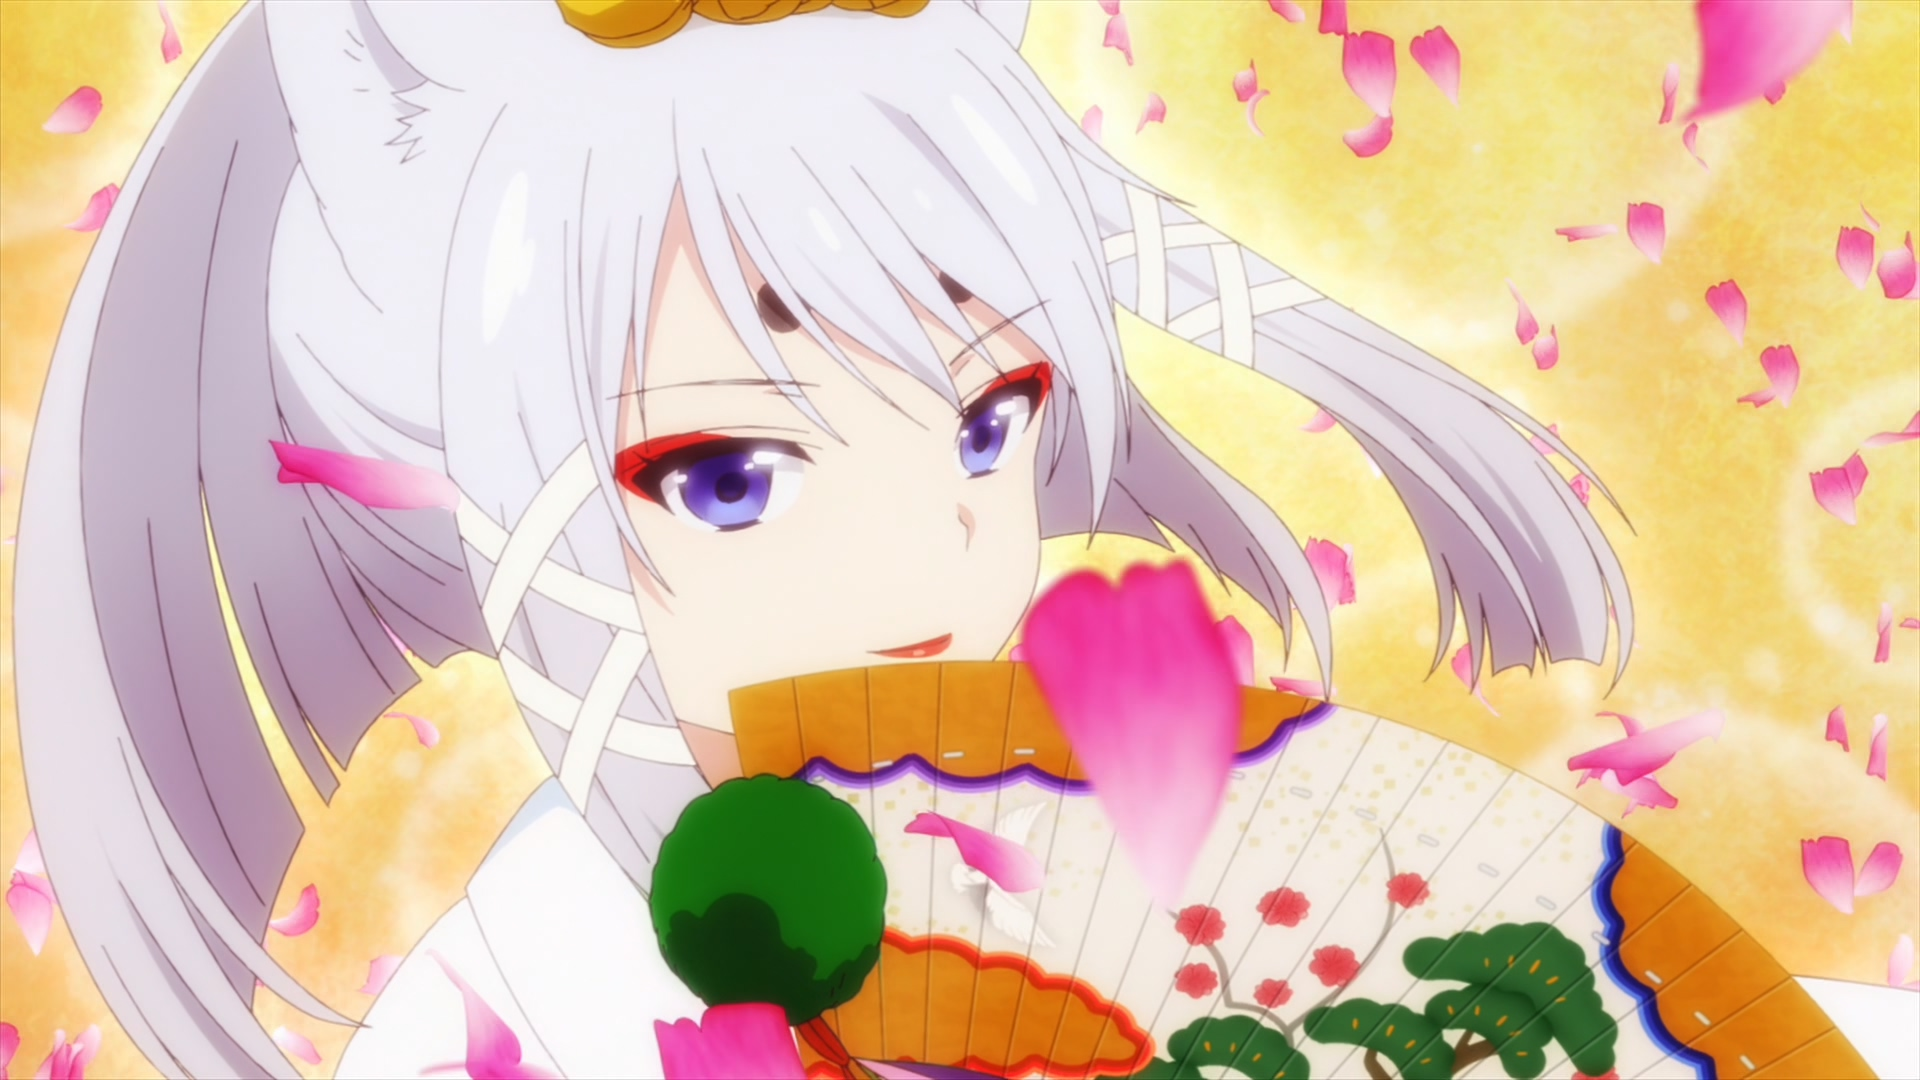柊: (13, 1, 1634, 1080)
